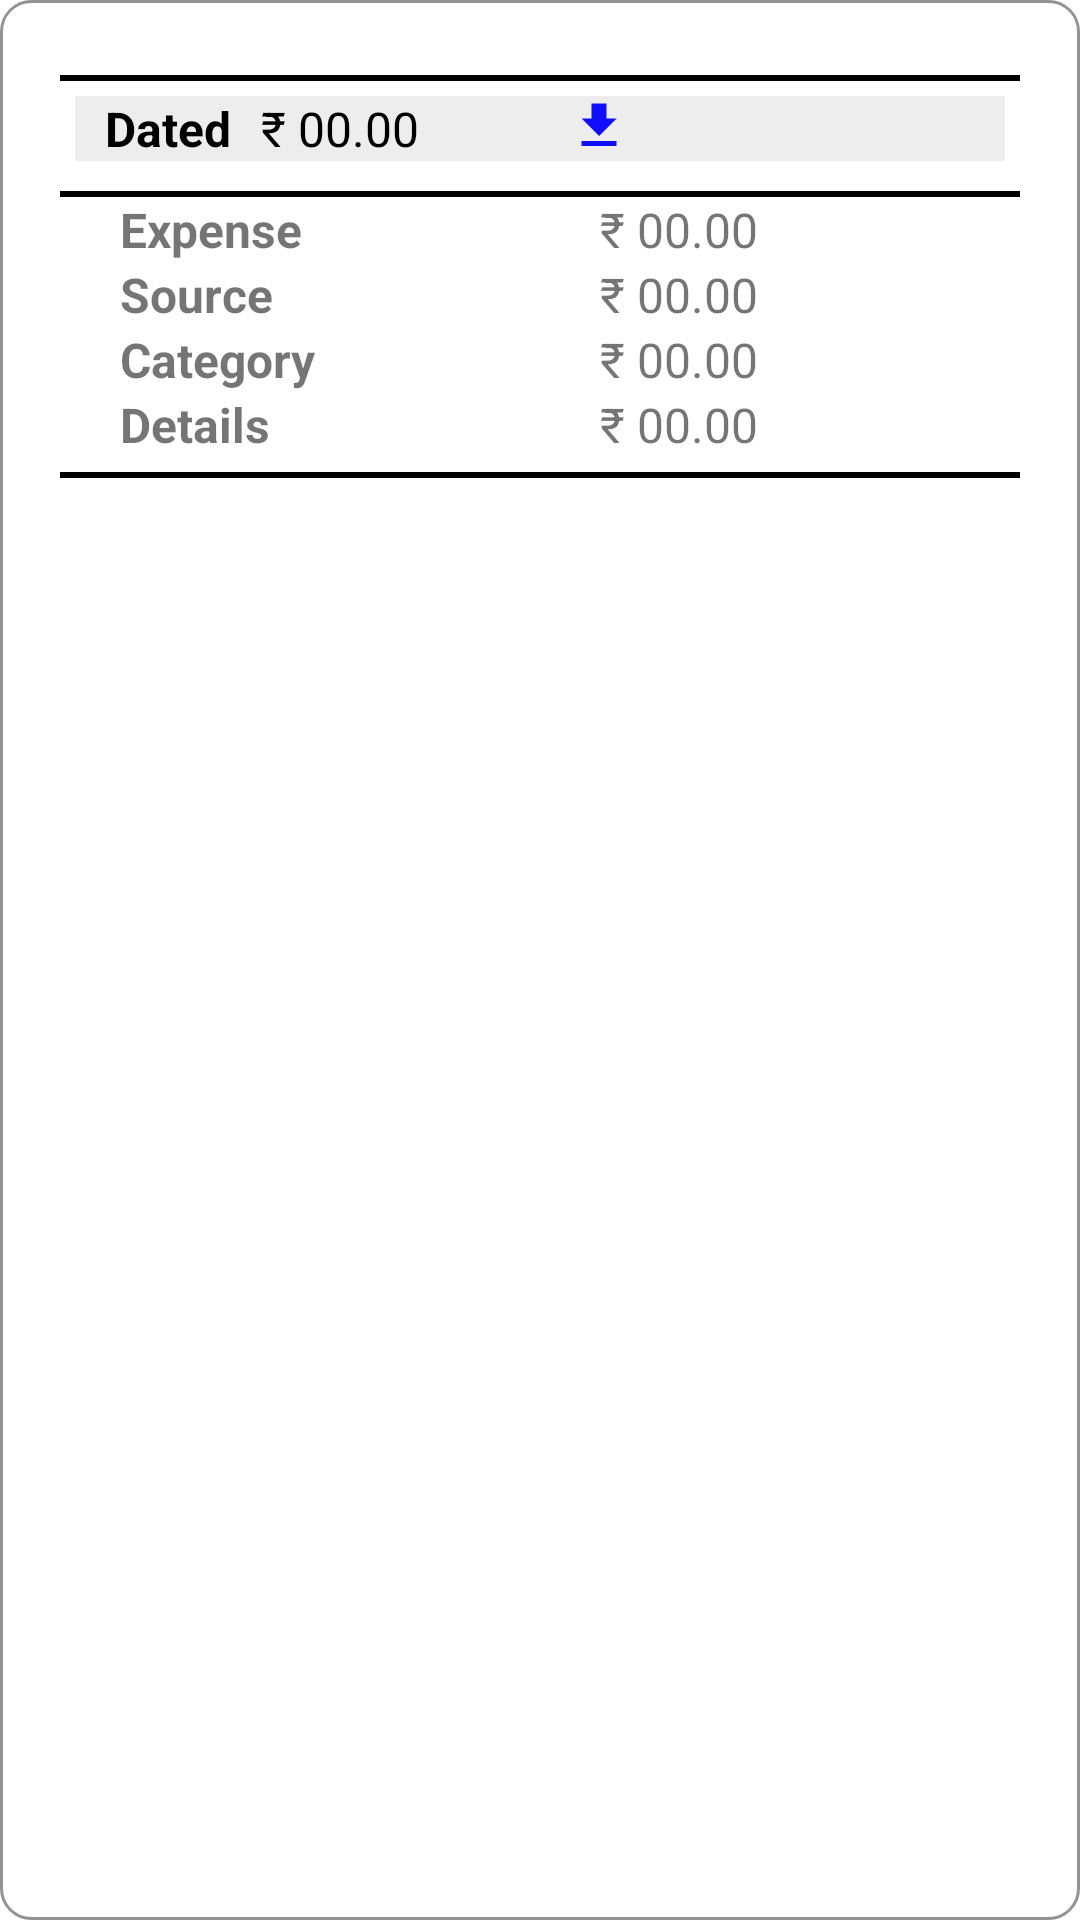

Where to tap for icons on this 1080px x 1920px app screen, as (x=x, y=y):
download: (x=599, y=124)
